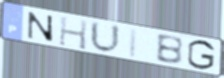B: (155, 33, 185, 66)
G: (187, 39, 217, 71)
H: (58, 14, 90, 52)
I: (127, 27, 140, 60)
N: (27, 10, 56, 44)
U: (89, 19, 122, 55)
